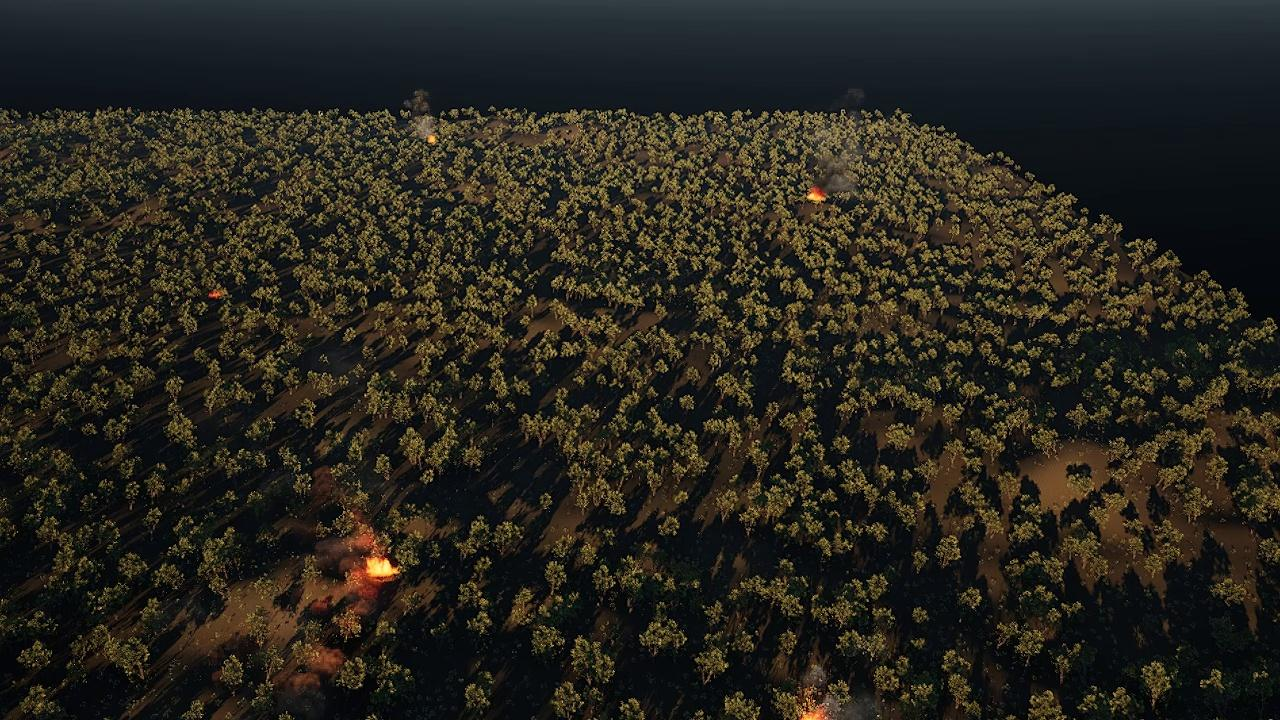fire: (365, 557, 393, 578), (797, 705, 829, 720), (805, 188, 822, 202), (208, 288, 227, 298)
smoke: (278, 467, 388, 717), (791, 660, 900, 720), (806, 150, 862, 193), (403, 88, 438, 141)
